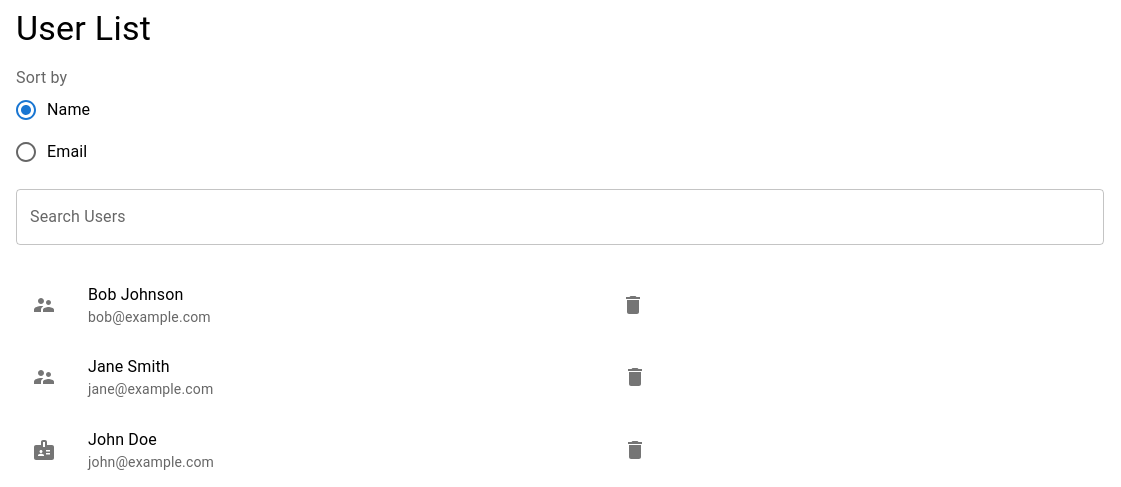
Test: UserEmployeeListLeicht › removes a user from the list
Expected: the number of list items is 3, [32, 286, 645, 326]; [32, 358, 647, 398]; [32, 430, 647, 470]
Click the button named "delete-John Doe" at x=635, y=450, box [623, 438, 647, 462]
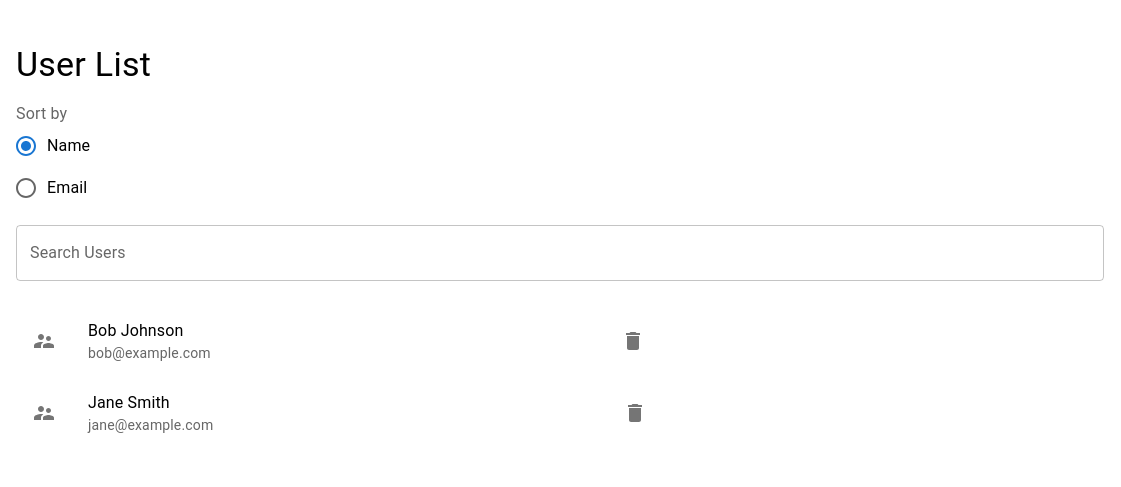
Now the number of list items is 2, box [32, 322, 645, 362]; [32, 394, 647, 434]
Now the text "John Doe" is gone
